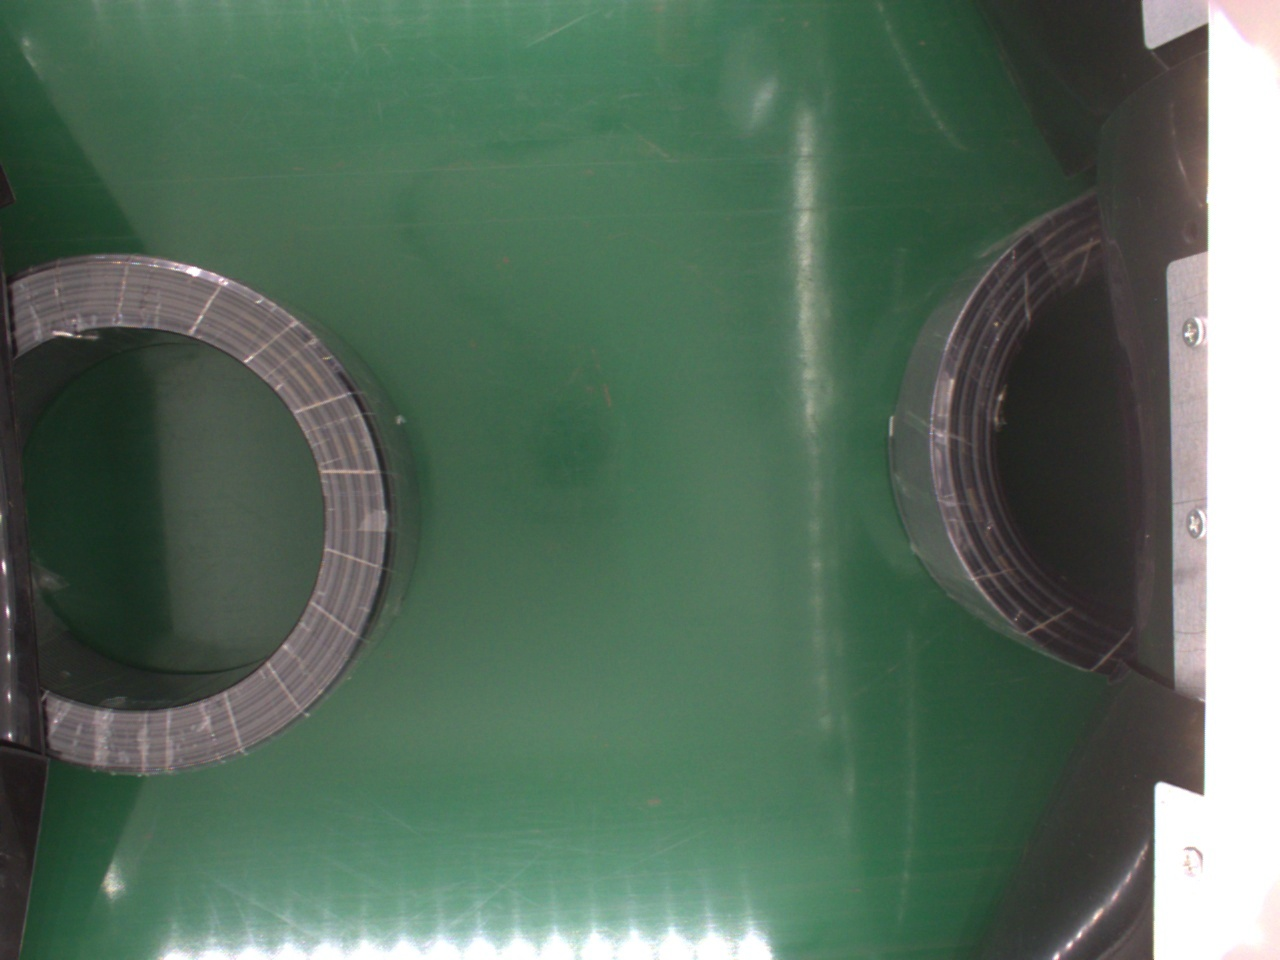black: (16, 255, 411, 776), (887, 192, 1144, 679)
